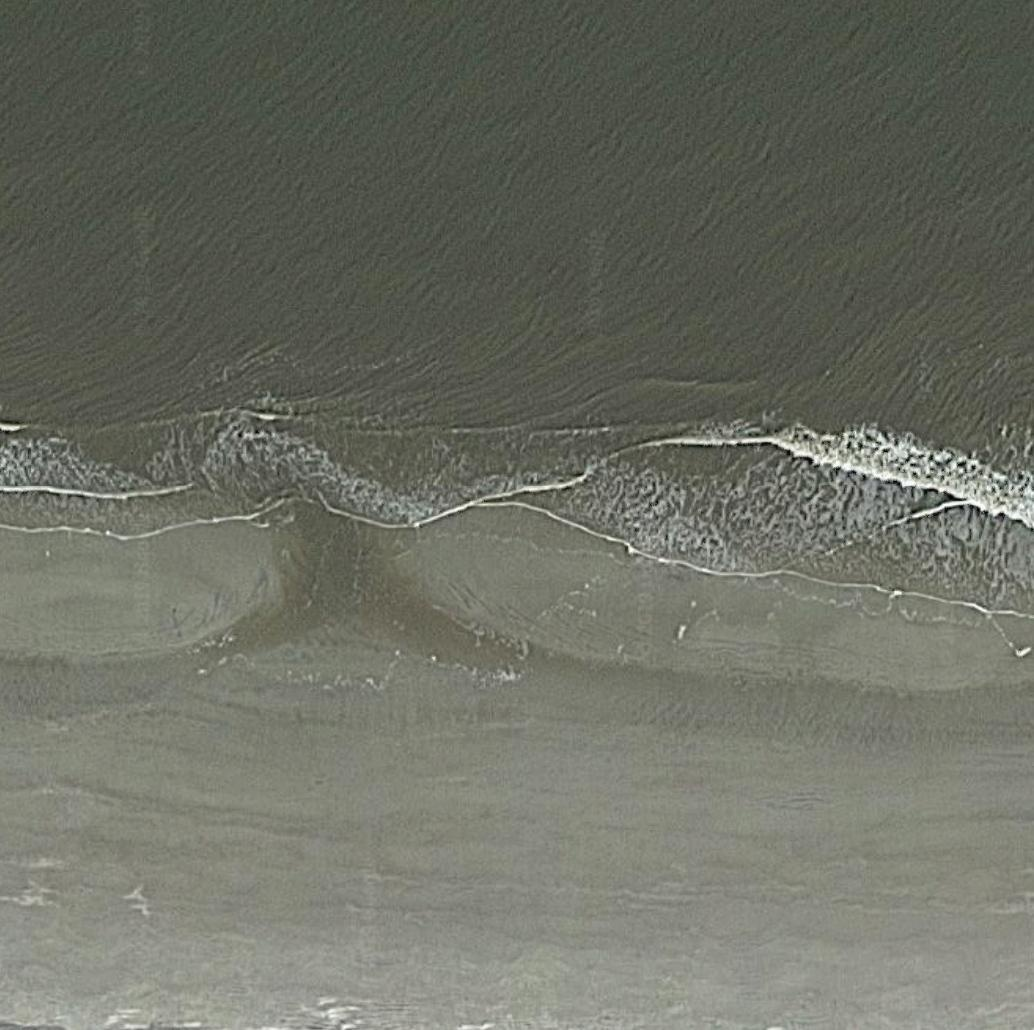rip_current: (184, 372, 413, 580)
